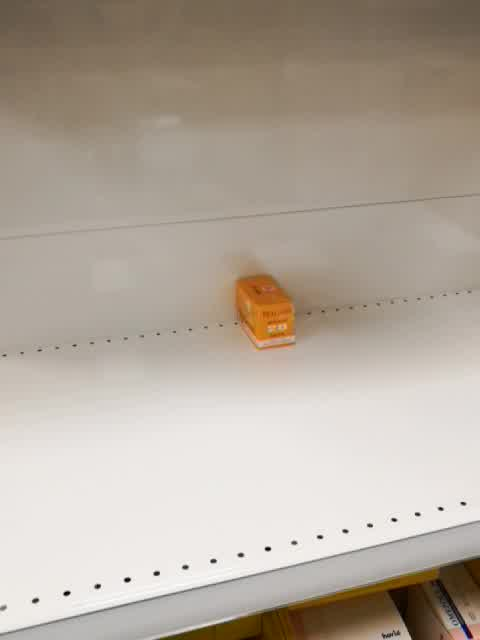jasminetea: (234, 274, 296, 351)
